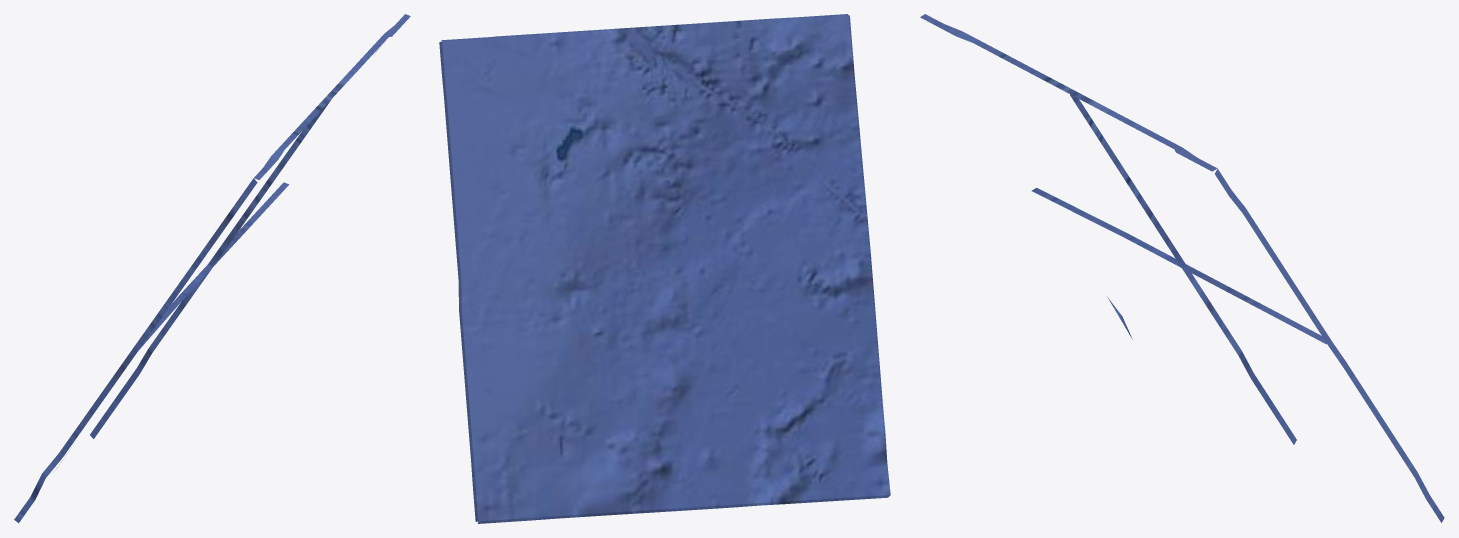
3 renders of one model, left to right at view 1: azimuth 30°, elevation 25°; view 2: azimuth 150°, elevation 25°; view 3: azimuth 270°, elevation 25°, orthographic. The views are drawn at different scales.
Size of the model in its own units: 157509 by 135637 by 149461.
Materials: 1 (1 with a texture image).
